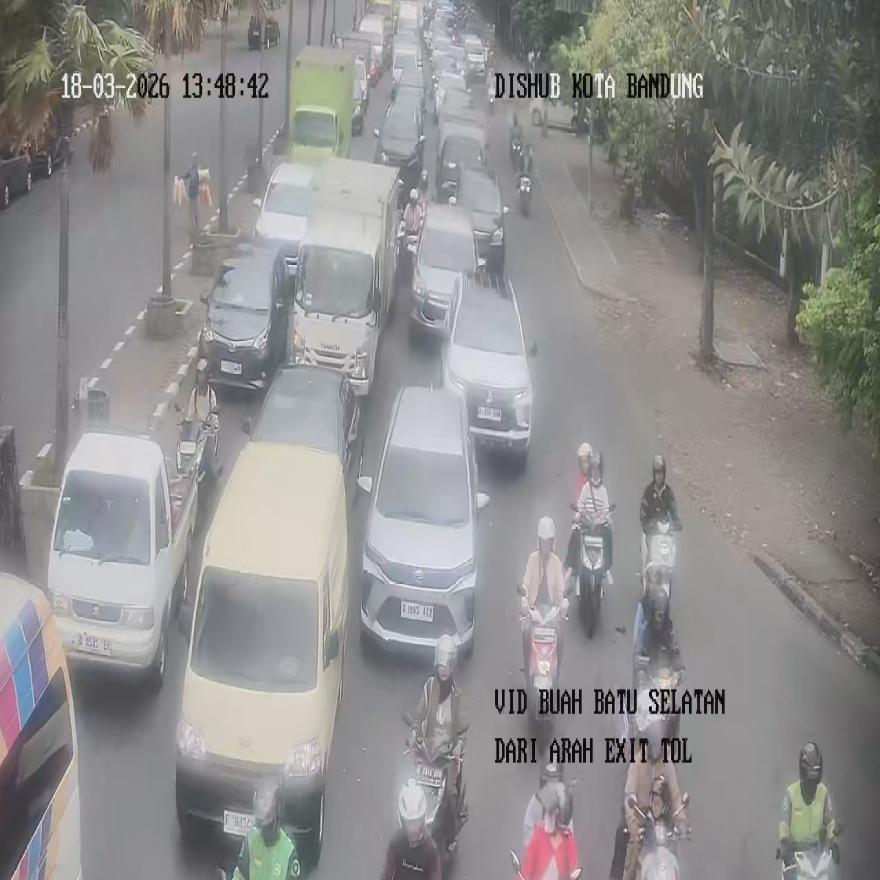Bis: (175, 441, 350, 864), (0, 572, 83, 879)
Motor: (45, 426, 199, 686), (356, 381, 490, 656), (241, 360, 363, 509), (443, 272, 536, 454), (198, 242, 289, 392), (253, 160, 317, 287)
Truk: (400, 712, 466, 860), (229, 781, 301, 879), (517, 586, 567, 722), (631, 649, 684, 766), (622, 792, 690, 880), (570, 504, 615, 636), (519, 783, 580, 879), (640, 516, 679, 633), (777, 821, 842, 880), (176, 413, 220, 496), (510, 849, 581, 880), (516, 172, 530, 214), (510, 131, 523, 167)
